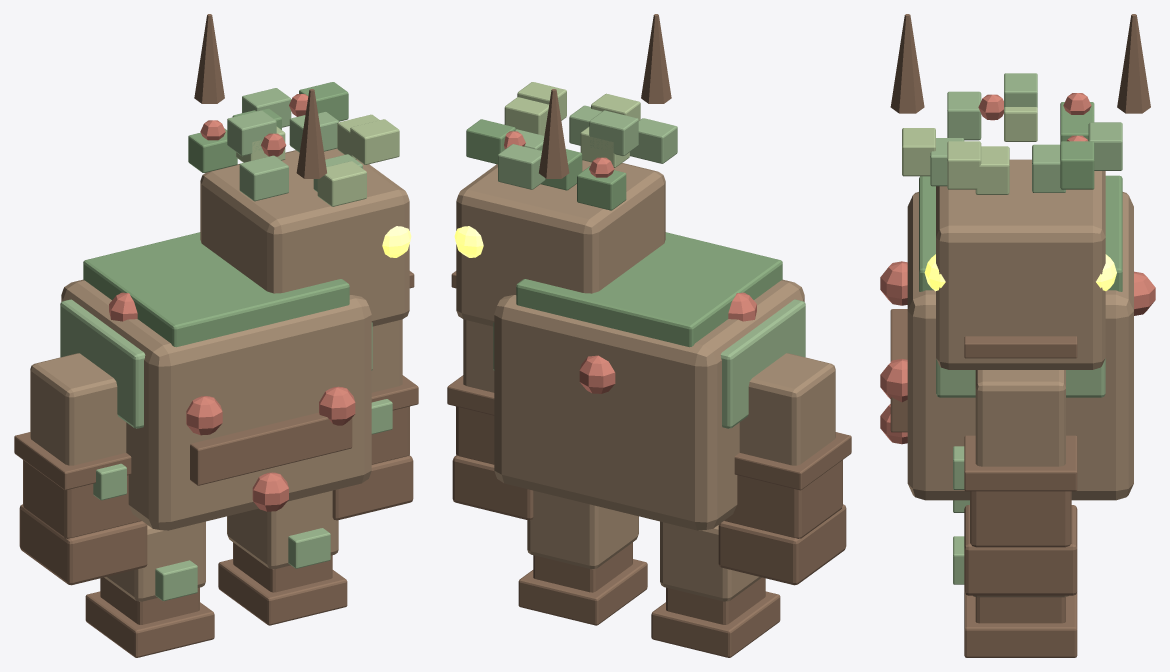
Rendered from hedgemother_v2.glb.
3 renders of one model, left to right at view 1: azimuth 30°, elevation 25°; view 2: azimuth 150°, elevation 25°; view 3: azimuth 270°, elevation 25°, orthographic. The views are drawn at different scales.
Parts seen in each view (by area): view 1: Body_Core, Head_Core, Body_Leaf_Top, ArmL_Upper, Vine_Front, ArmL_Hand, Body_Leaves_L, LegR_Thigh, ArmL_Forearm, LegR_Foot, LegL_Foot, LegL_Thigh (+27 smaller); view 2: Body_Core, Head_Core, Body_Leaf_Top, ArmL_Upper, LegR_Thigh, ArmL_Hand, ArmL_Forearm, Body_Leaves_L, LegL_Thigh, LegR_Foot, LegL_Foot, ArmR_Hand (+22 smaller); view 3: Head_Core, Body_Core, ArmR_Upper, ArmR_Hand, ArmR_Forearm, LegR_Foot, ArmR_Vine, Body_Leaf_Top, Mouth, LegR_Calf, Body_Leaves_R, Antler_L (+23 smaller).
Boxes of the visible parts, left/top/right/bottom form: Body_Core: left=61, top=279, right=371, bottom=530; Head_Core: left=200, top=148, right=409, bottom=326; Body_Leaf_Top: left=83, top=232, right=349, bottom=347; ArmL_Upper: left=30, top=353, right=126, bottom=465; Vine_Front: left=190, top=412, right=352, bottom=485; ArmL_Hand: left=19, top=504, right=147, bottom=585; Body_Leaves_L: left=60, top=299, right=145, bottom=428; LegR_Thigh: left=227, top=490, right=338, bottom=569; ArmL_Forearm: left=23, top=460, right=141, bottom=538; LegR_Foot: left=218, top=559, right=347, bottom=625; LegL_Foot: left=85, top=591, right=214, bottom=657; LegL_Thigh: left=104, top=521, right=205, bottom=601; Body_Core: left=494, top=279, right=804, bottom=530; Head_Core: left=456, top=160, right=665, bottom=326; Body_Leaf_Top: left=516, top=232, right=782, bottom=347; ArmL_Upper: left=739, top=353, right=835, bottom=465; LegR_Thigh: left=527, top=490, right=638, bottom=569; ArmL_Hand: left=718, top=504, right=846, bottom=585; ArmL_Forearm: left=724, top=460, right=842, bottom=538; Body_Leaves_L: left=720, top=299, right=805, bottom=428; LegL_Thigh: left=660, top=521, right=761, bottom=601; LegR_Foot: left=518, top=559, right=647, bottom=625; LegL_Foot: left=651, top=591, right=780, bottom=657; ArmR_Hand: left=452, top=455, right=533, bottom=520; Head_Core: left=936, top=159, right=1105, bottom=369; Body_Core: left=907, top=192, right=1133, bottom=500; ArmR_Upper: left=975, top=370, right=1065, bottom=466; ArmR_Hand: left=964, top=505, right=1077, bottom=595; ArmR_Forearm: left=970, top=491, right=1071, bottom=547; LegR_Foot: left=964, top=592, right=1077, bottom=657; ArmR_Vine: left=964, top=435, right=1077, bottom=491; Body_Leaf_Top: left=919, top=175, right=1122, bottom=291; Mouth: left=964, top=336, right=1077, bottom=358; LegR_Calf: left=975, top=597, right=1065, bottom=623; Body_Leaves_R: left=936, top=358, right=1105, bottom=397; Antler_L: left=890, top=14, right=924, bottom=113.
Size of the model in its own units: 1.2 by 1.79 by 0.7291.
